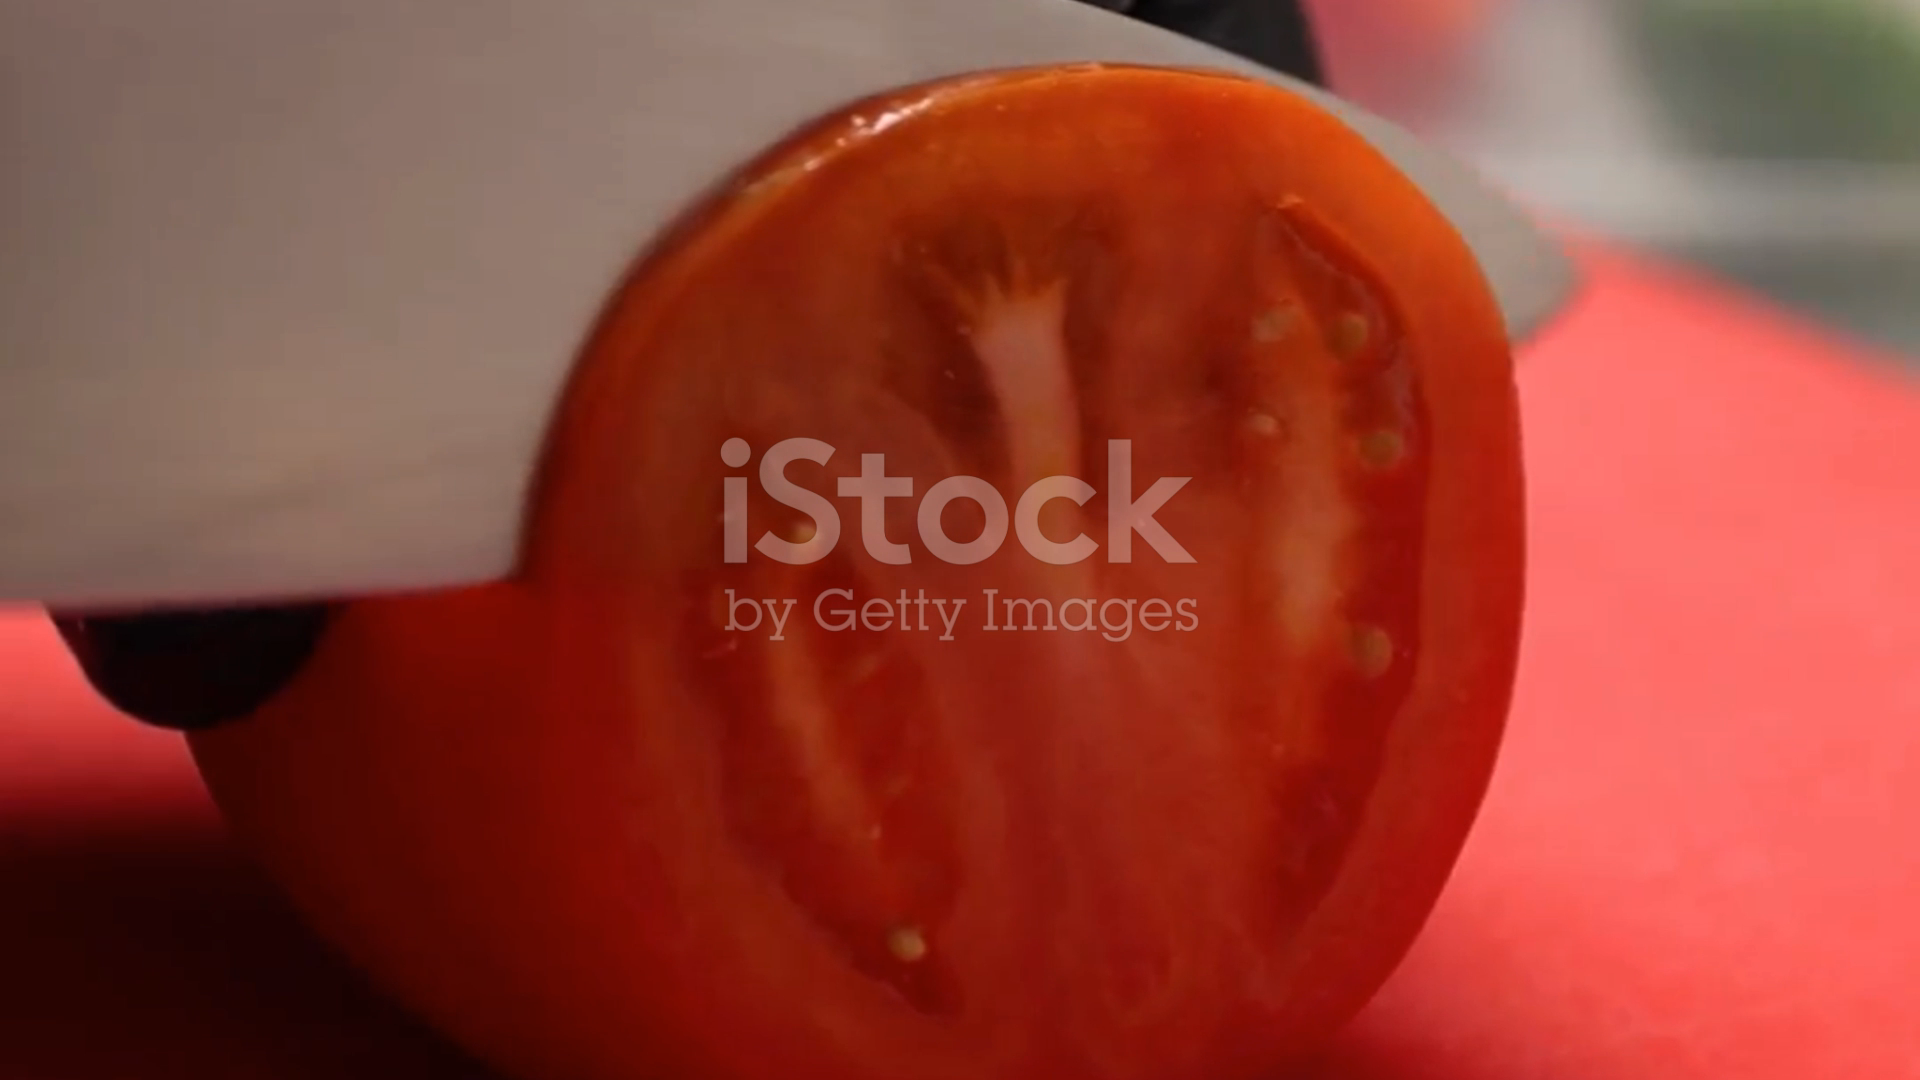cortante: (0, 0, 1590, 608)
